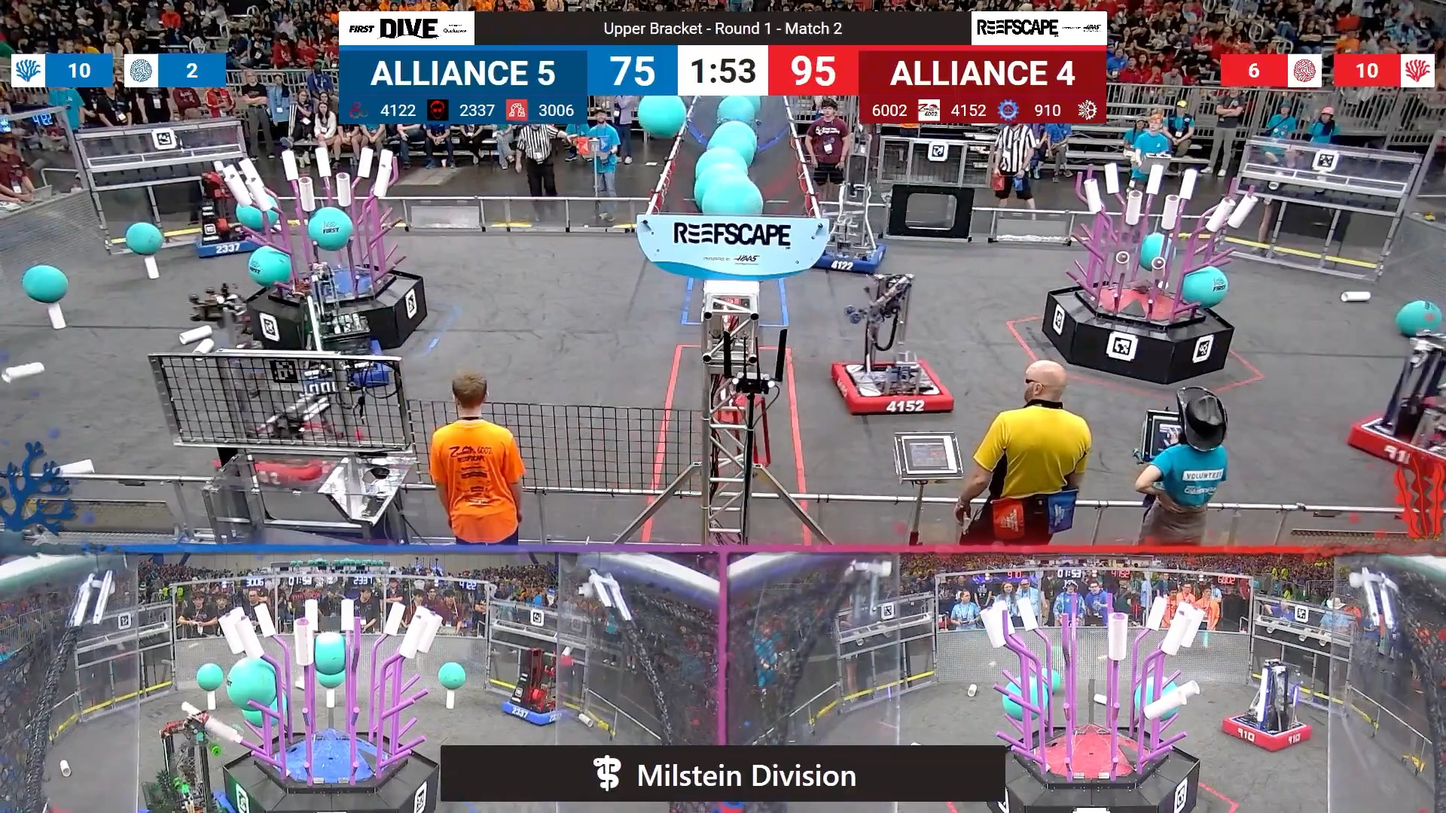bumpers: (825, 352, 957, 422), (221, 429, 343, 492), (1345, 397, 1444, 473), (1214, 708, 1319, 752), (186, 224, 277, 261), (804, 236, 891, 274), (128, 785, 240, 812), (494, 696, 573, 729)
